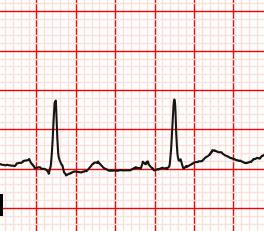LVH: (194, 144, 233, 169)
